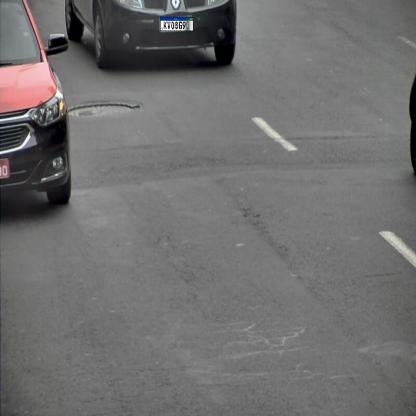PlacaM: (160, 17, 194, 31)
